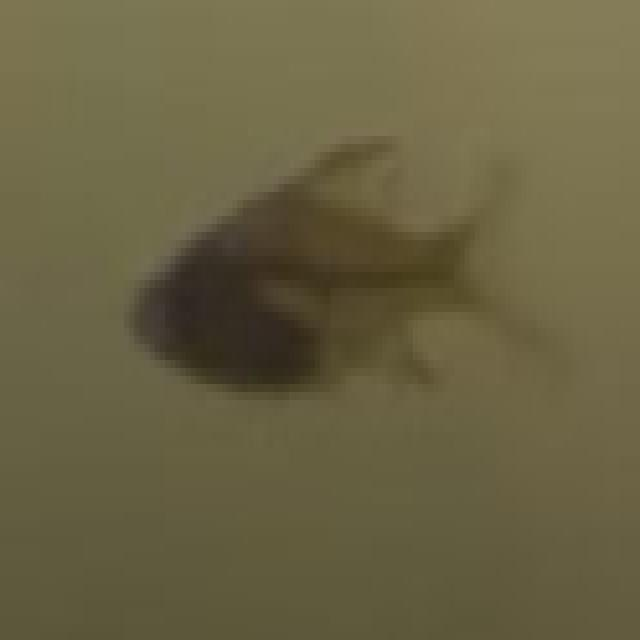Glass-Perchlet: (126, 46, 640, 439)
